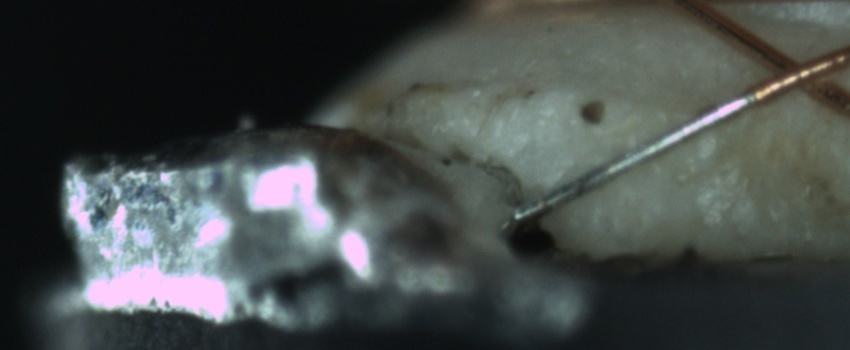CL: (744, 39, 842, 106)
TS: (513, 91, 758, 227)
